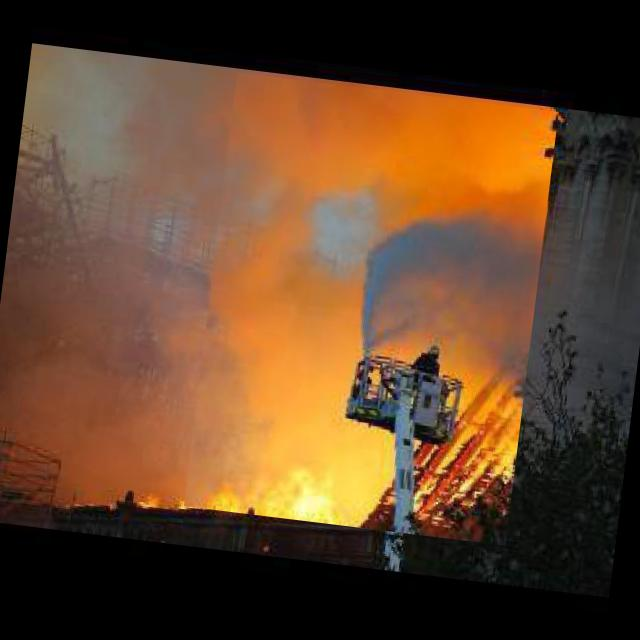fire: (184, 72, 558, 545)
